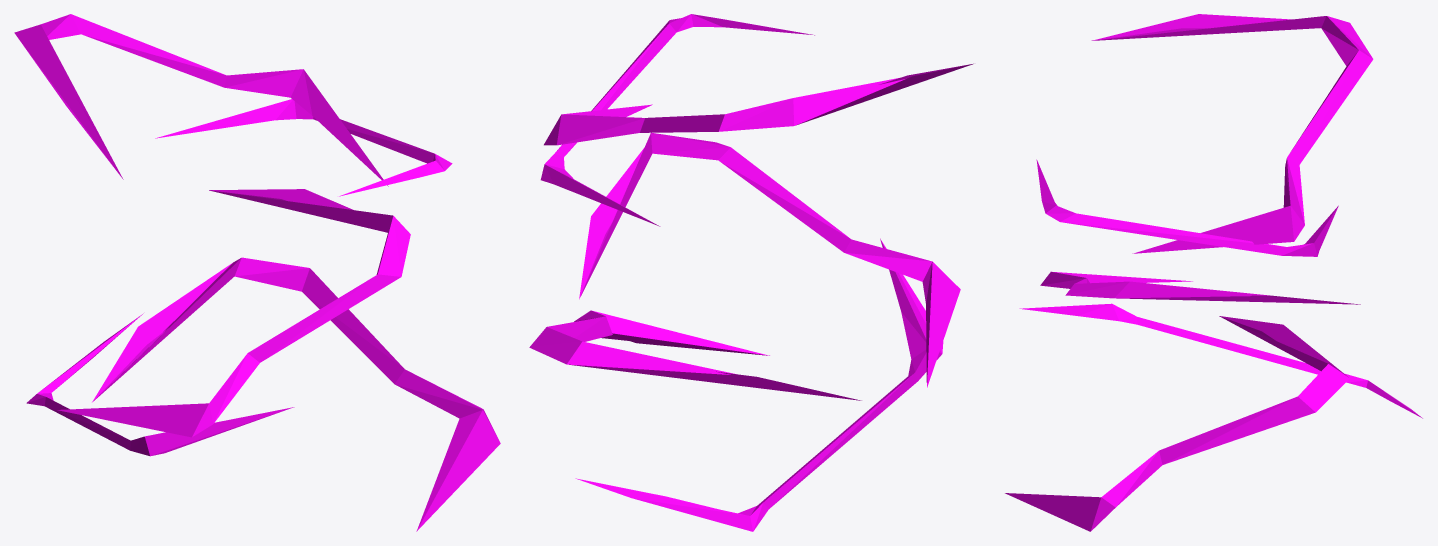
File: Spellcharge1.obj
3 renders of one model, left to right at view 1: azimuth 30°, elevation 25°; view 2: azimuth 150°, elevation 25°; view 3: azimuth 270°, elevation 25°, orthographic. The views are drawn at different scales.
Parts seen in each view (by area): view 1: Spellcharge1_back; view 2: Spellcharge1_back; view 3: Spellcharge1_back.
Boxes of the visible parts, box(x1,y1,x2,y2) form: Spellcharge1_back: box(14, 14, 500, 531); Spellcharge1_back: box(529, 14, 973, 531); Spellcharge1_back: box(1005, 14, 1422, 531).
Bounding box in the file's own units: 2.26 × 2.38 × 2.33.
